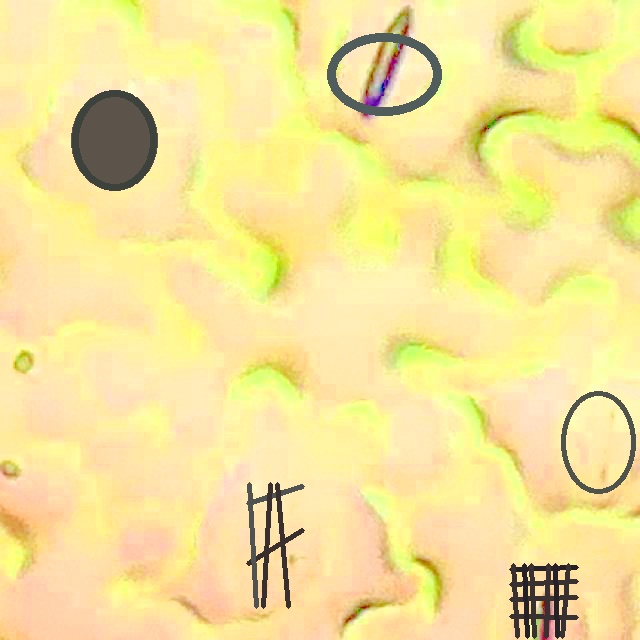close: (559, 389, 636, 494), (247, 483, 303, 607)
open: (326, 31, 443, 116), (71, 90, 157, 189), (509, 563, 578, 638)
